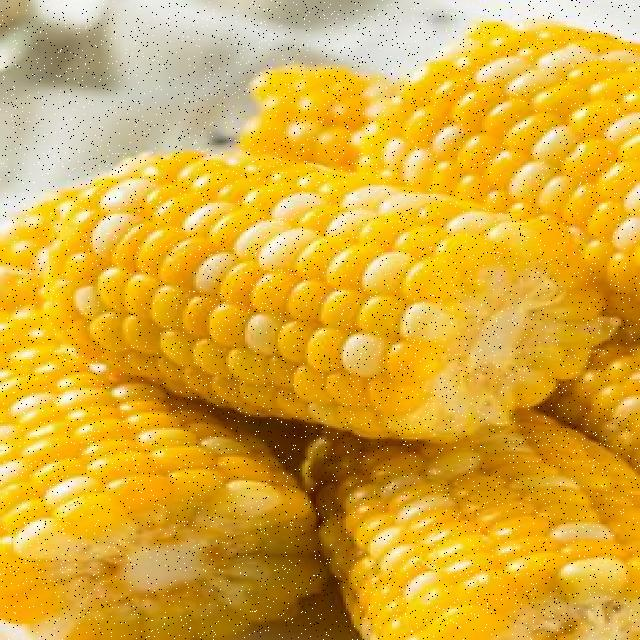Corn: (101, 160, 534, 396)
